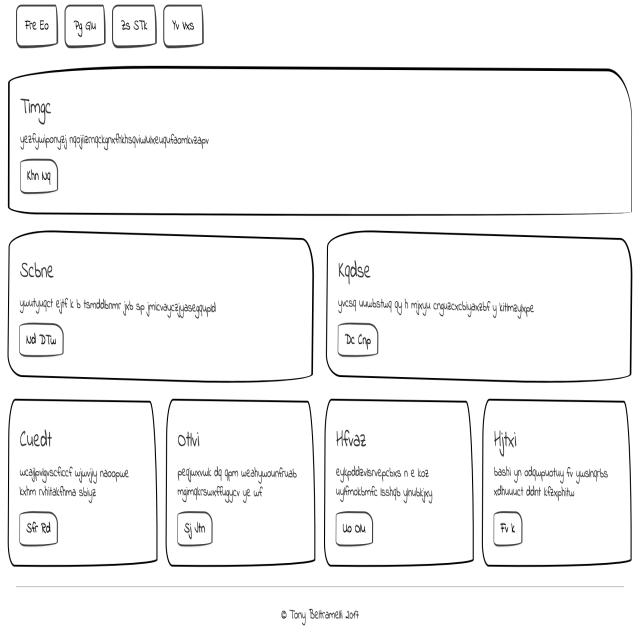Button: (14, 319, 73, 360), (172, 511, 218, 552), (16, 509, 62, 548), (19, 161, 66, 197), (336, 512, 379, 544), (337, 325, 378, 355), (492, 512, 525, 543)
Card: (10, 65, 640, 211), (8, 223, 316, 388), (322, 229, 633, 378), (482, 396, 633, 566), (8, 399, 160, 566), (326, 402, 476, 568), (169, 402, 319, 565)
Footer: (4, 575, 640, 639)
Heading 6: (489, 422, 535, 458), (18, 418, 64, 451), (334, 254, 374, 288), (13, 255, 63, 282), (331, 427, 380, 454), (170, 424, 207, 452), (20, 91, 56, 119)
Navigation Bar: (1, 0, 211, 54)
Paragraph: (16, 124, 222, 156), (174, 461, 298, 508), (15, 458, 136, 501), (336, 453, 441, 501), (491, 466, 623, 500), (17, 296, 232, 316), (338, 297, 547, 311)
